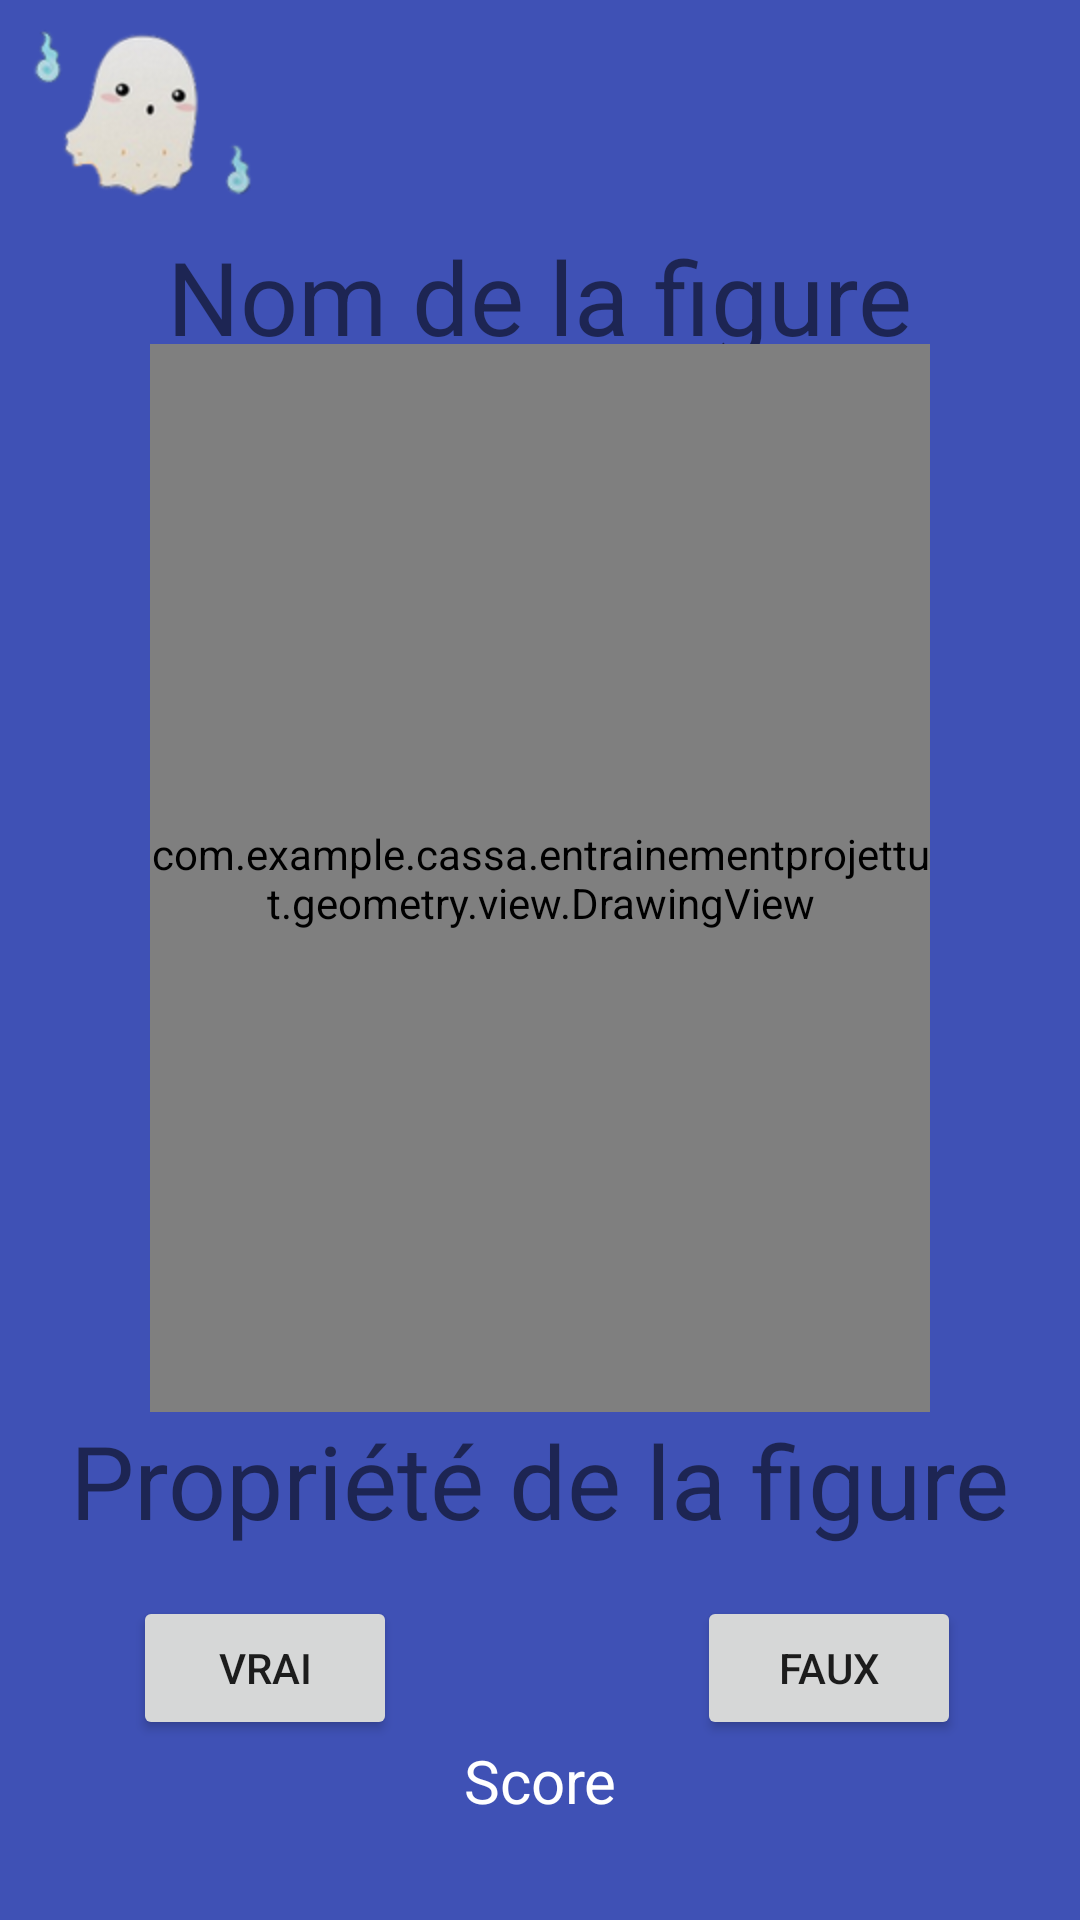

Locate icon controls on the screen. Image size 1080px×1920px, boxes as rect(x1, y1, x2, y2).
ghost: rect(35, 32, 250, 196)
